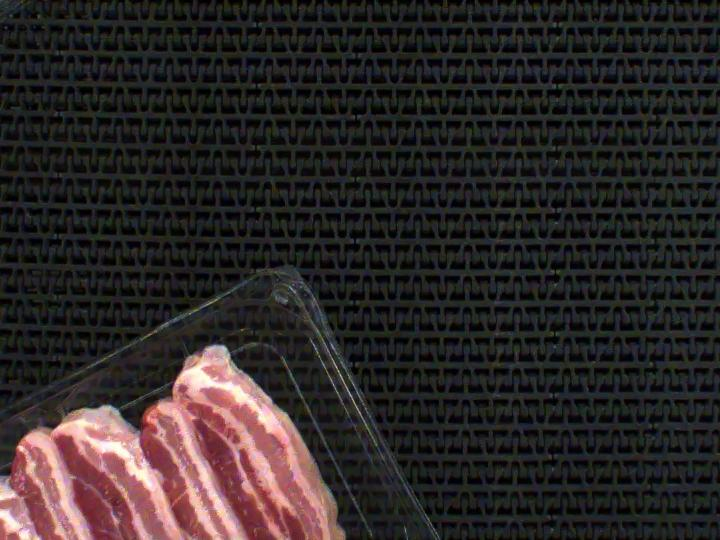packaging-error: (6, 402, 49, 441), (168, 330, 199, 364), (51, 388, 80, 423)
